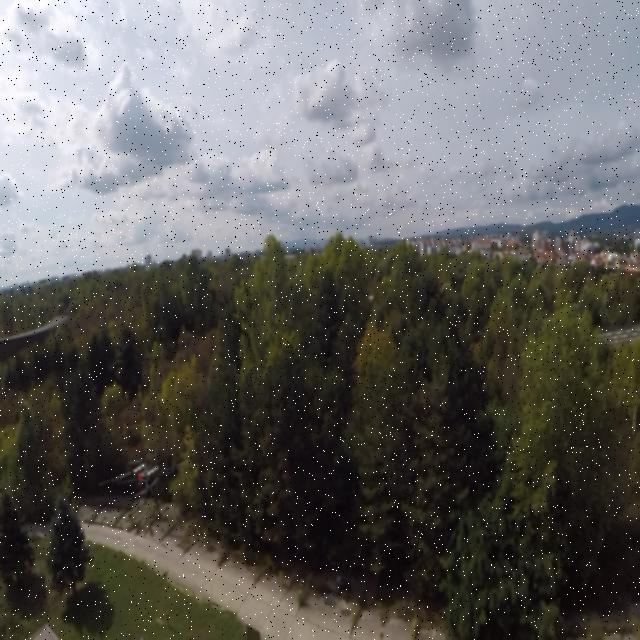UAV: (97, 448, 189, 530)
